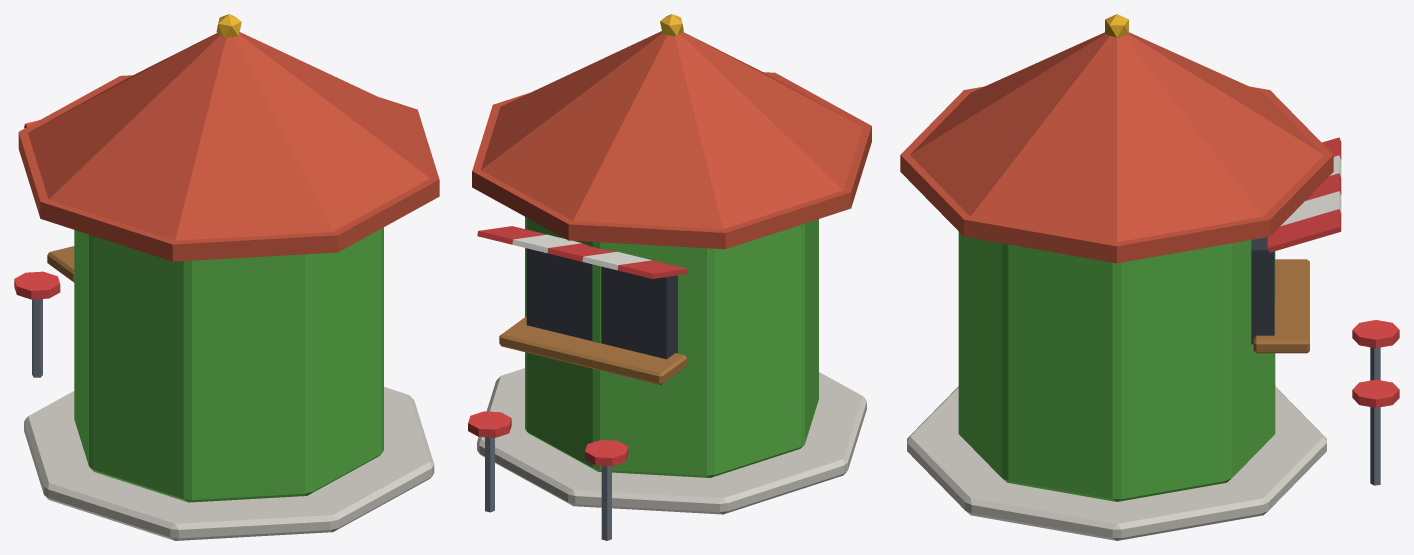
File: quiosque.glb
3 views of the same model, side by side, from view 1: azimuth 30°, elevation 25°; view 2: azimuth 150°, elevation 25°; view 3: azimuth 270°, elevation 25° (orthographic). The views are drawn at different scales.
Parts seen in each view (by area): view 1: corpo; view 2: corpo; view 3: corpo.
Part boxes in pixels (bbox=[...]): corpo: bbox=[14, 14, 439, 540]; corpo: bbox=[468, 14, 871, 540]; corpo: bbox=[900, 14, 1399, 540].
Size of the model in its own units: 0.92 by 1.03 by 1.06.
